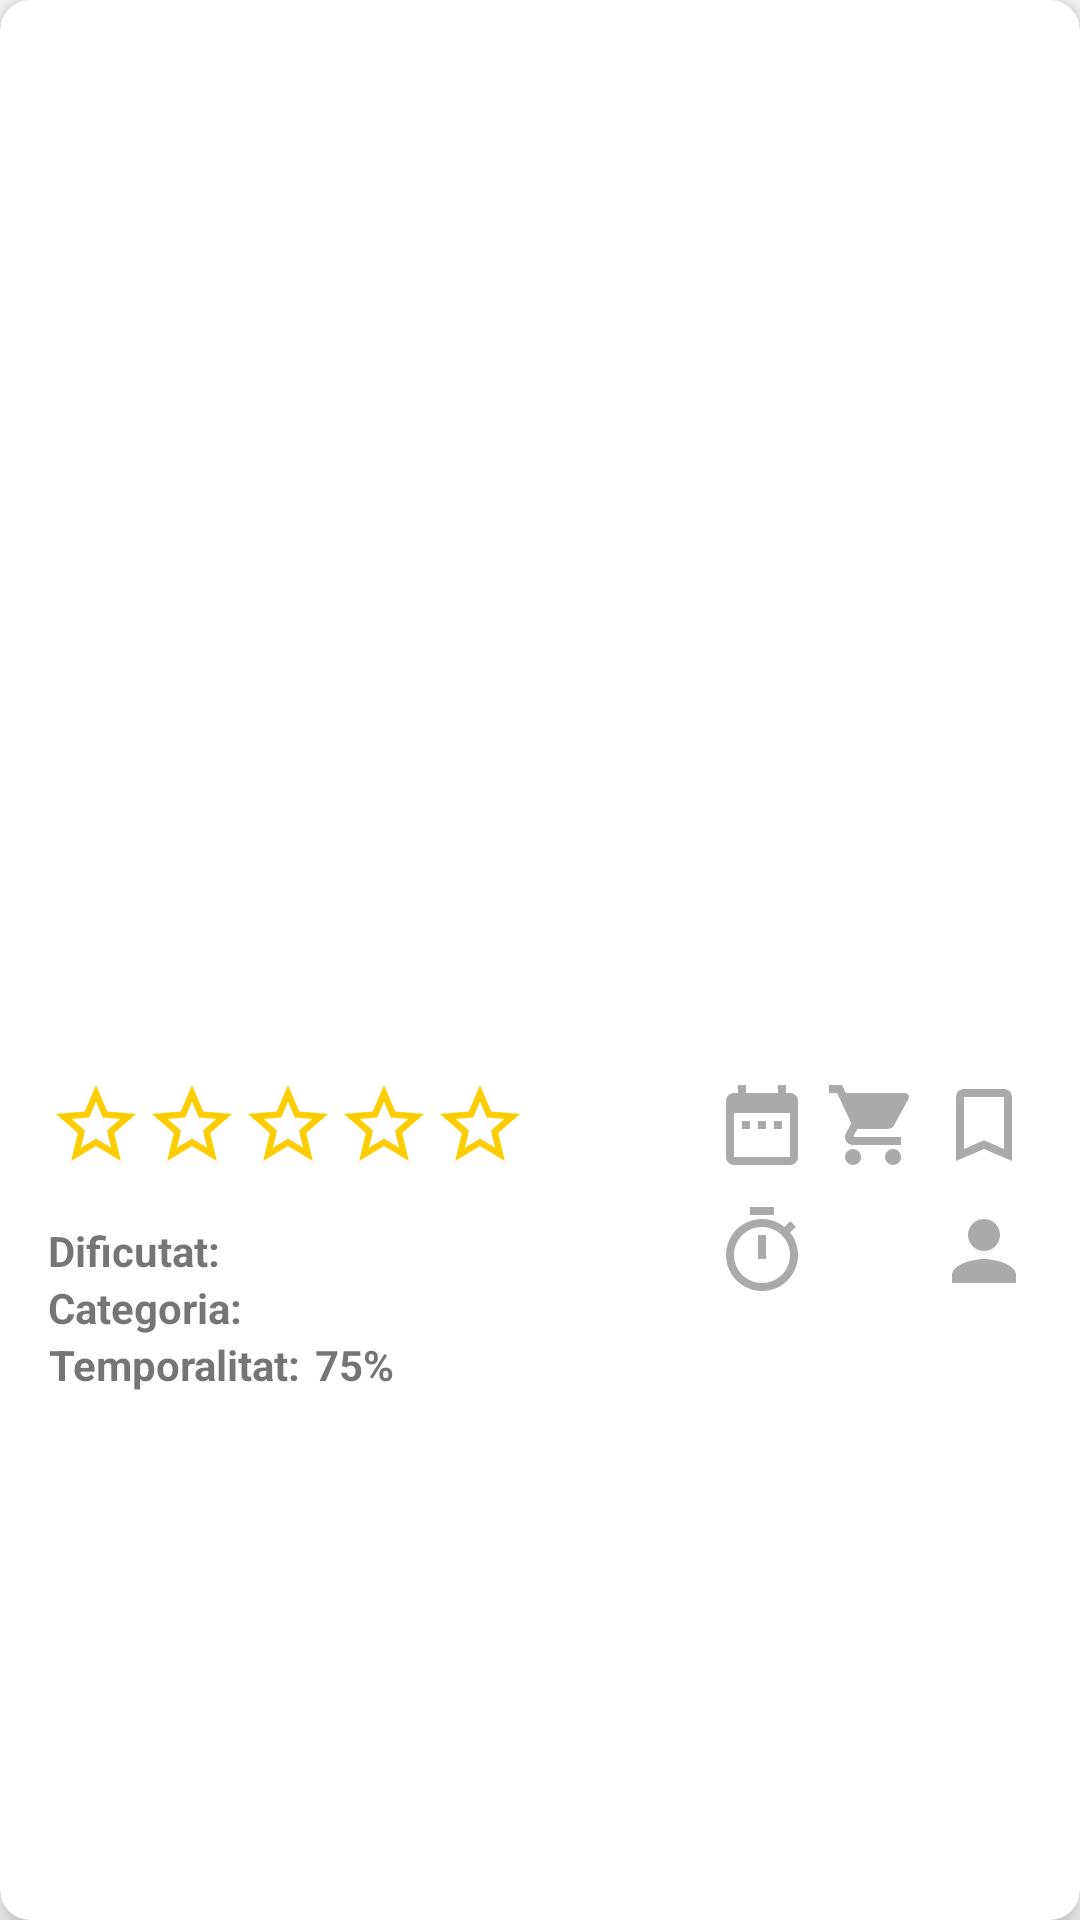

Icons on this 1080x1920 Android screen, each with its box as [x1,y1,x2,y2]:
Llista de la compra: [829,1085,909,1165]
Recepta en un menu: [726,1085,798,1165]
Recepta preferida: [956,1089,1012,1161]
star empty: [56,1085,136,1161], [152,1085,232,1161], [248,1085,328,1161], [344,1085,424,1161], [440,1085,520,1161]
